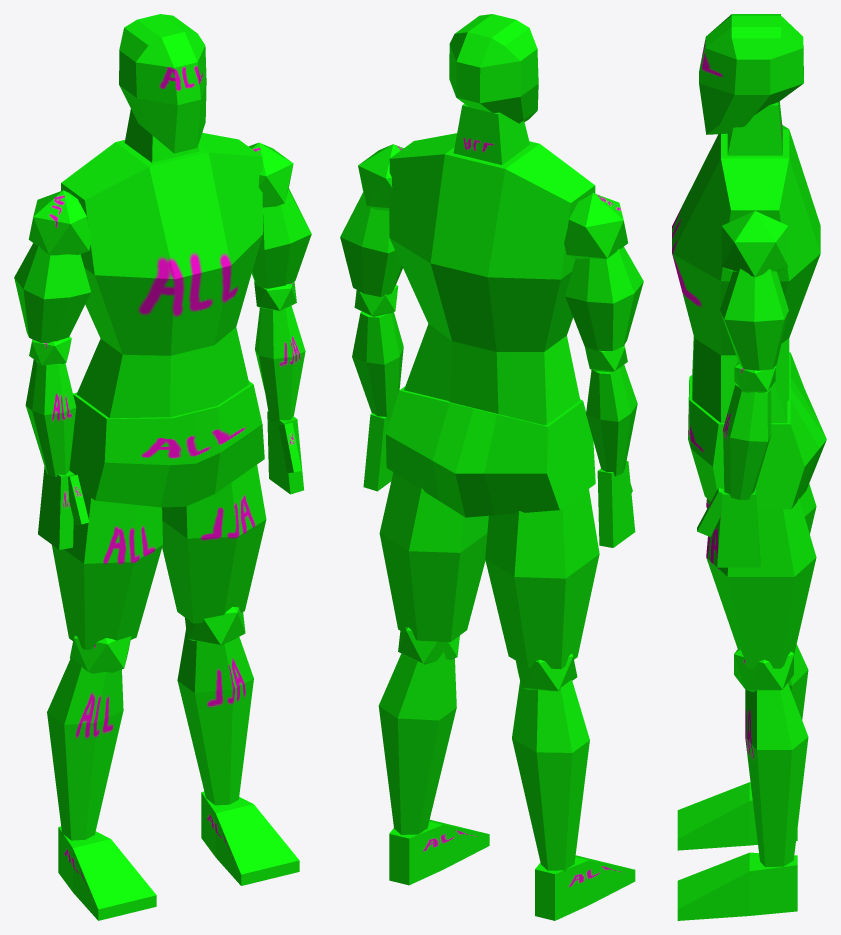
Rendered from EnemySpawn.ALL.fbx.
3 renders of one model, left to right at view 1: azimuth 30°, elevation 25°; view 2: azimuth 150°, elevation 25°; view 3: azimuth 270°, elevation 25°, orthographic. The views are drawn at different scales.
Visible parts, largest first — view 1: Character_Cube.001; view 2: Character_Cube.001; view 3: Character_Cube.001.
Part boxes in pixels (<box>): Character_Cube.001: <box>14,14,311,920</box>; Character_Cube.001: <box>340,14,643,920</box>; Character_Cube.001: <box>672,14,826,920</box>.
Size of the model in its own units: 1.1 by 3.18 by 0.525.
1 material, 1 textured.
